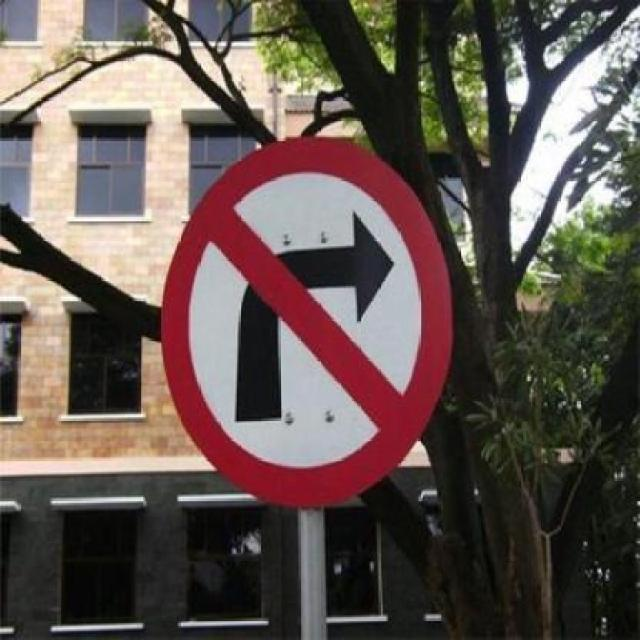right turn prohibited: (161, 131, 460, 514)
